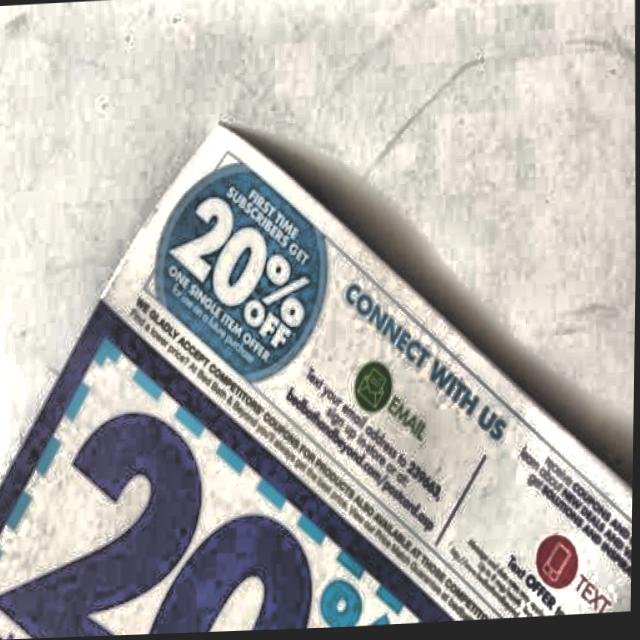Paper: (0, 92, 639, 640)
